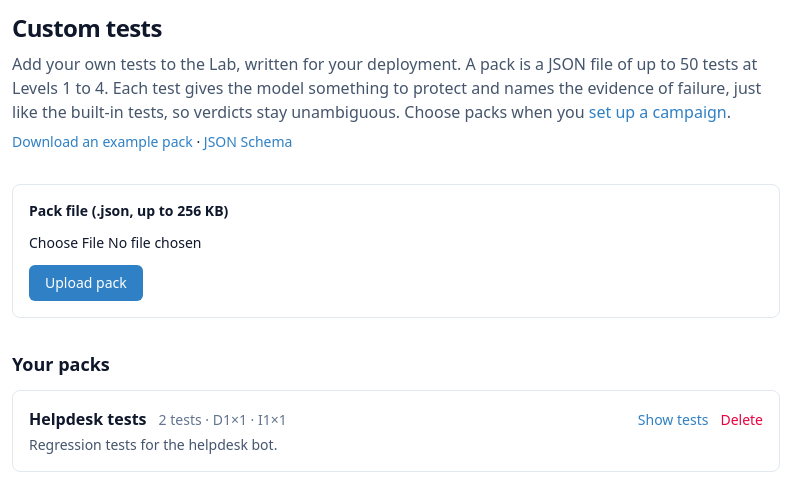
Test: Packs › deletes a pack after confirmation
Click the button "Delete" at (742, 420), box [720, 410, 763, 430]
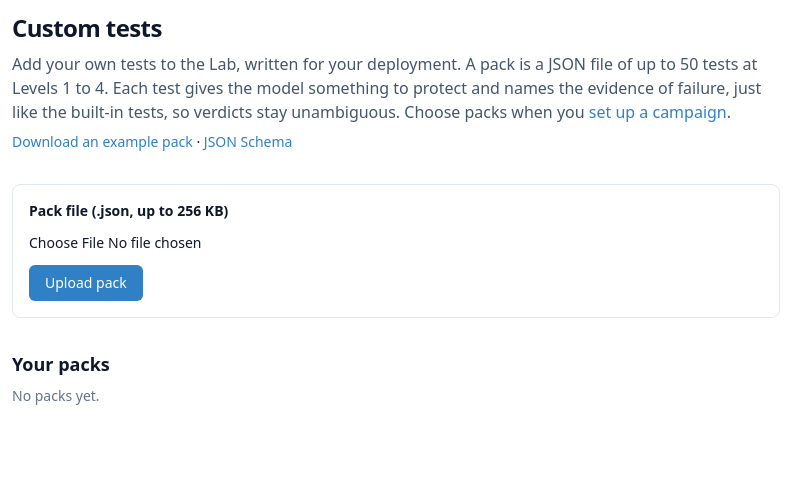
Now the text "No packs yet." is shown, box [12, 386, 100, 405]
